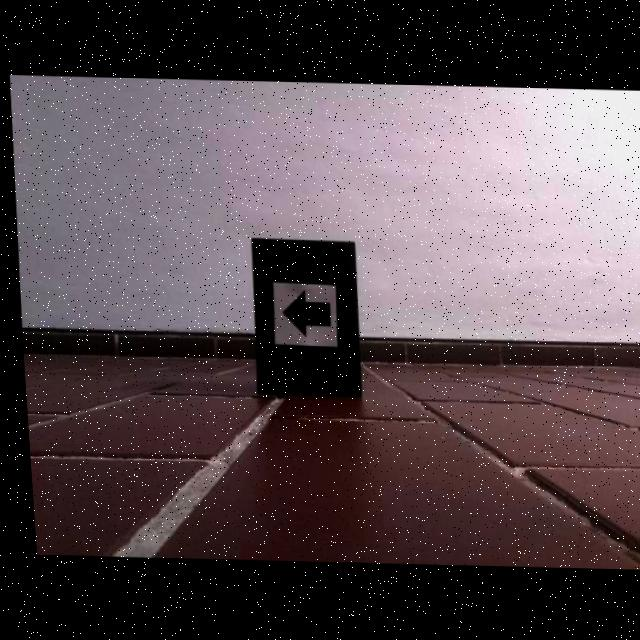LEFT: (277, 288, 327, 338)
